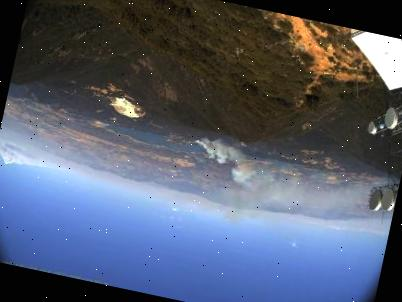smoke: (180, 134, 366, 229)
